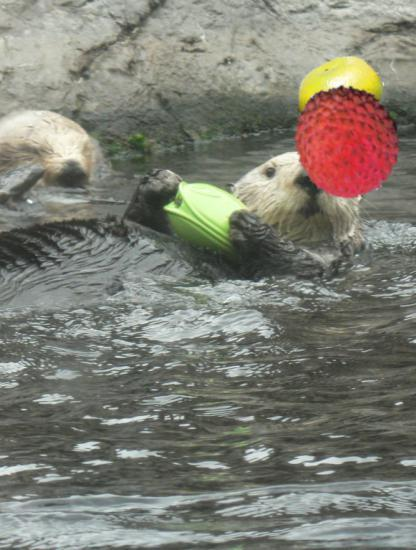Lychee: (288, 84, 404, 200)
Pomelo: (296, 52, 386, 142)
